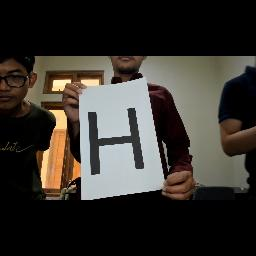h: (86, 106, 146, 174)
